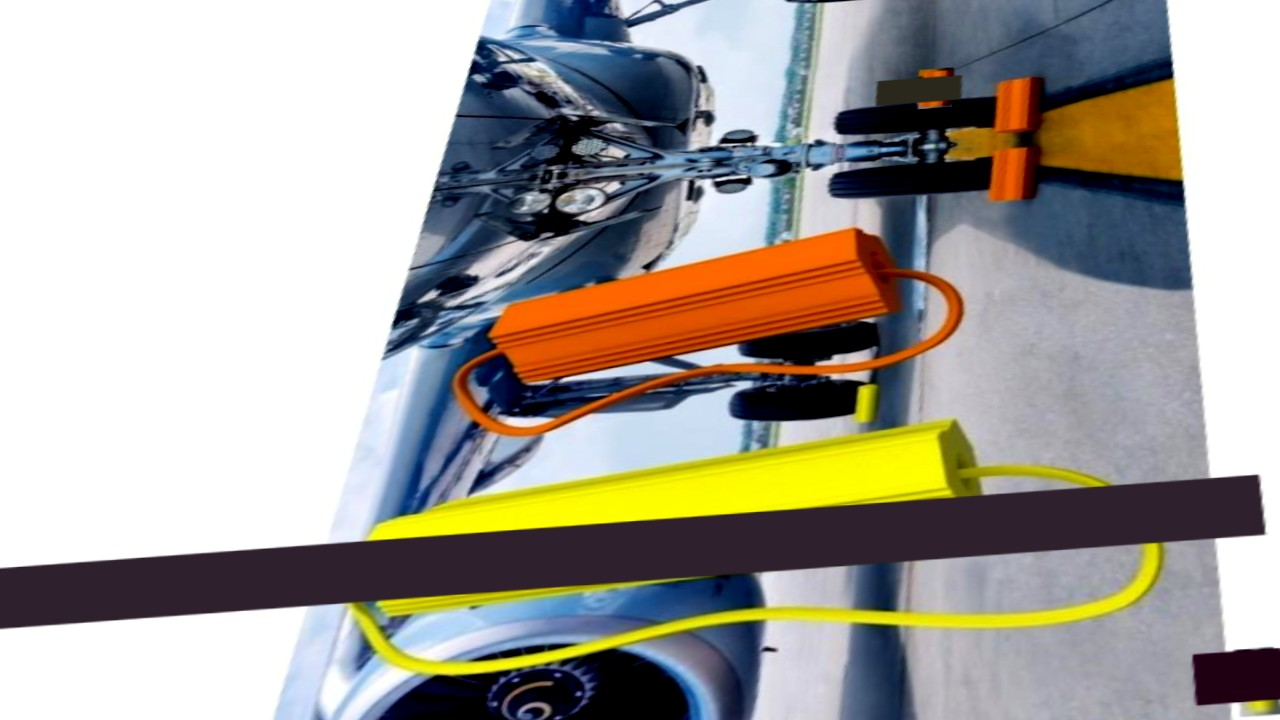chock: (307, 415, 1032, 625), (448, 218, 940, 391), (975, 73, 1058, 138), (975, 143, 1049, 206), (1229, 647, 1280, 718), (908, 67, 963, 110), (841, 381, 889, 426)
wheel: (819, 158, 1000, 203), (714, 375, 875, 425), (826, 95, 1003, 138), (724, 318, 882, 364)
